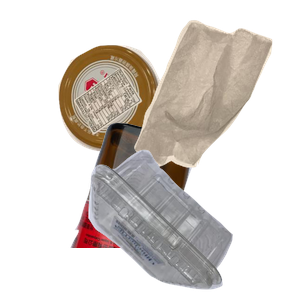glass: (68, 120, 255, 300)
metal: (56, 43, 211, 187)
plastic: (86, 147, 300, 300)
trash: (132, 17, 300, 177)
